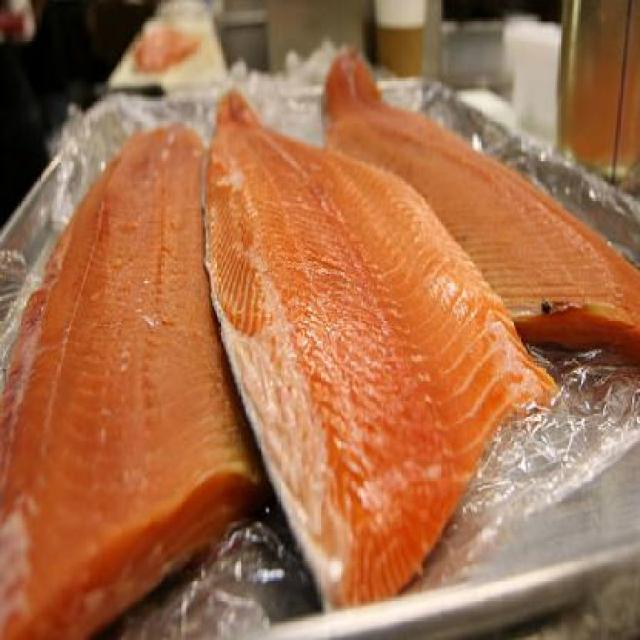salmon: (194, 72, 552, 603), (3, 80, 272, 628), (307, 30, 640, 404)
